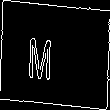M_N: (42, 28, 68, 82)
